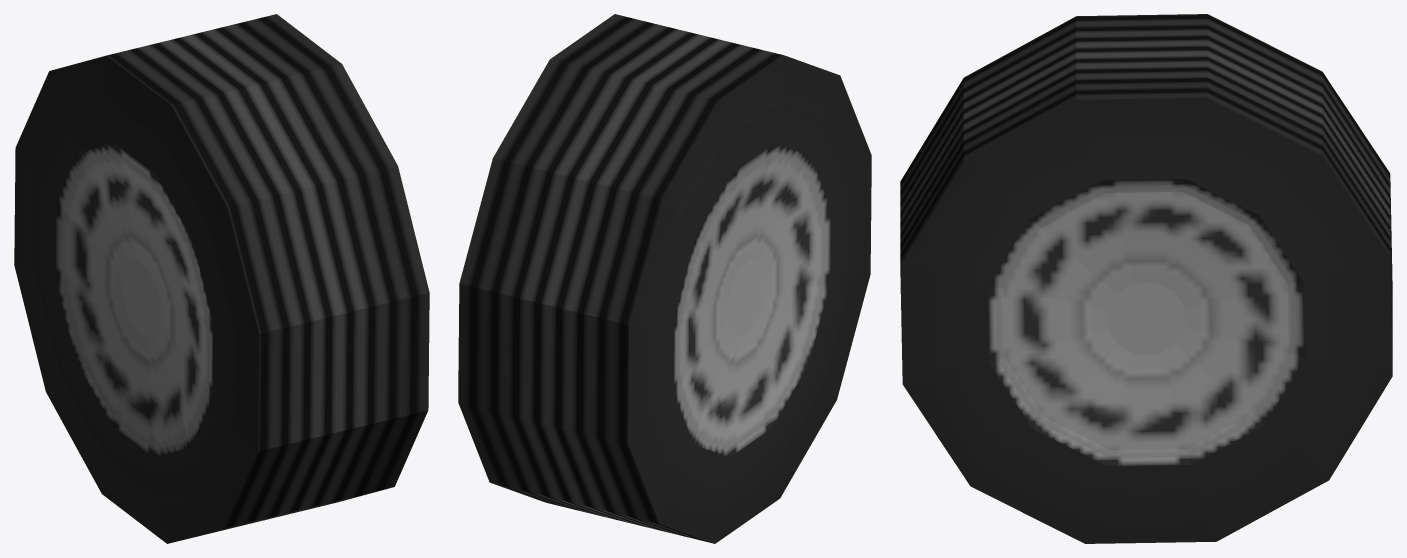
The model's file is Vehicles_GavrilGrandMarshalTaxiWheel.fbx.
3 renders of one model, left to right at view 1: azimuth 30°, elevation 25°; view 2: azimuth 150°, elevation 25°; view 3: azimuth 270°, elevation 25°, orthographic.
Parts seen in each view (by area): view 1: GavrilWheel.001; view 2: GavrilWheel.001; view 3: GavrilWheel.001.
Part boxes in pixels (x1,y1,x2,y2): GavrilWheel.001: (14,14,429,543); GavrilWheel.001: (458,14,871,543); GavrilWheel.001: (900,14,1392,543).
Bounding box in the file's own units: 0.3104 × 0.7456 × 0.7456.
